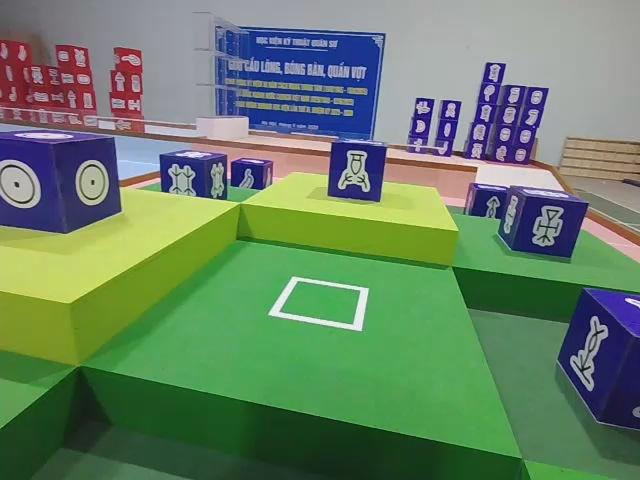R2 Real Blue: (1, 130, 123, 236), (560, 289, 640, 438), (498, 186, 590, 261), (326, 138, 388, 204), (161, 149, 231, 201), (226, 157, 272, 191)
